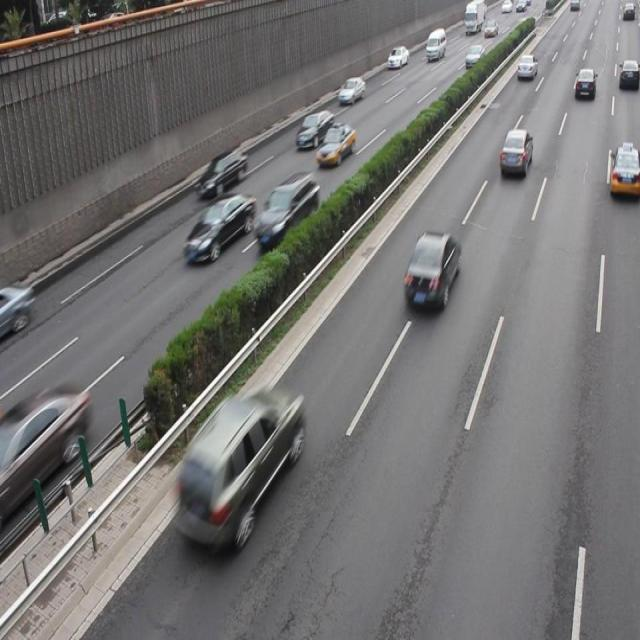car: (175, 384, 304, 556), (1, 382, 91, 508), (183, 192, 255, 264), (253, 171, 319, 247), (402, 228, 459, 312), (196, 147, 247, 203), (1, 281, 34, 339), (316, 121, 356, 168), (607, 144, 640, 197), (499, 128, 531, 178), (295, 108, 333, 150)
